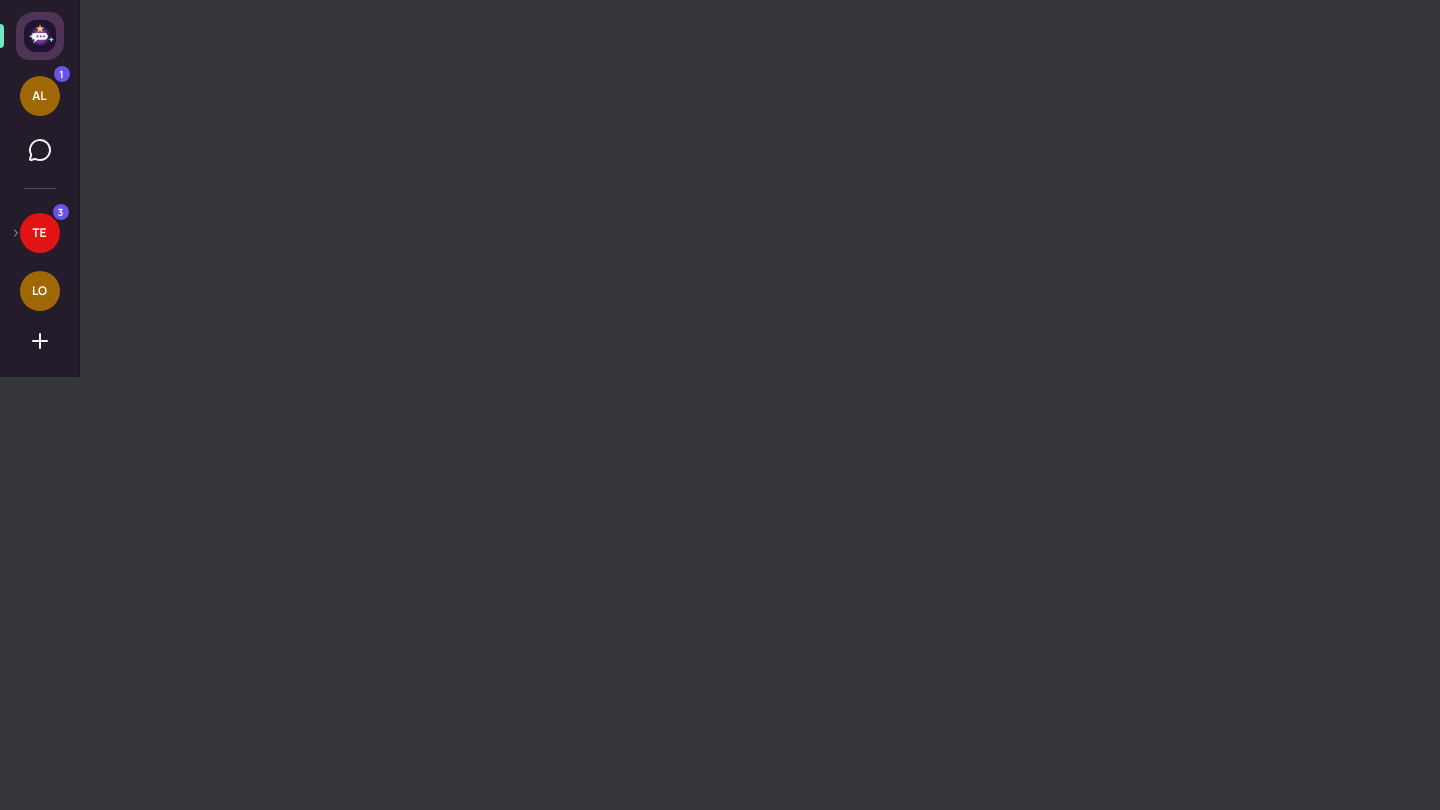
SpaceRail › opens the Invite dialog for a space from its context menu
Right-click the button with aria-label "TE 3, Team, 1 unread, 3 mentions".
right_click(40, 233)  # box [14, 207, 66, 259]
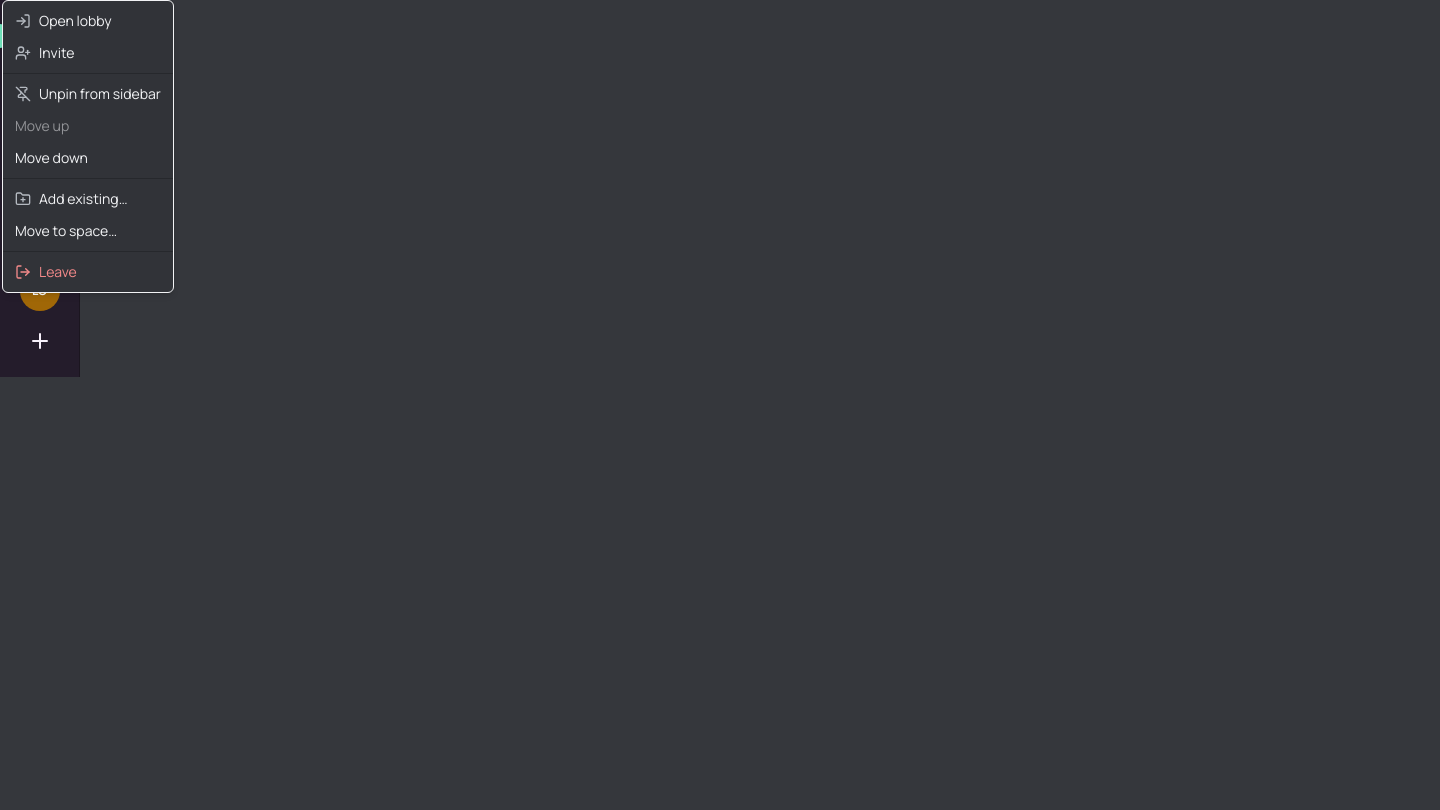
Click the menu item "Invite".
click(45, 52)  # box [15, 43, 74, 62]
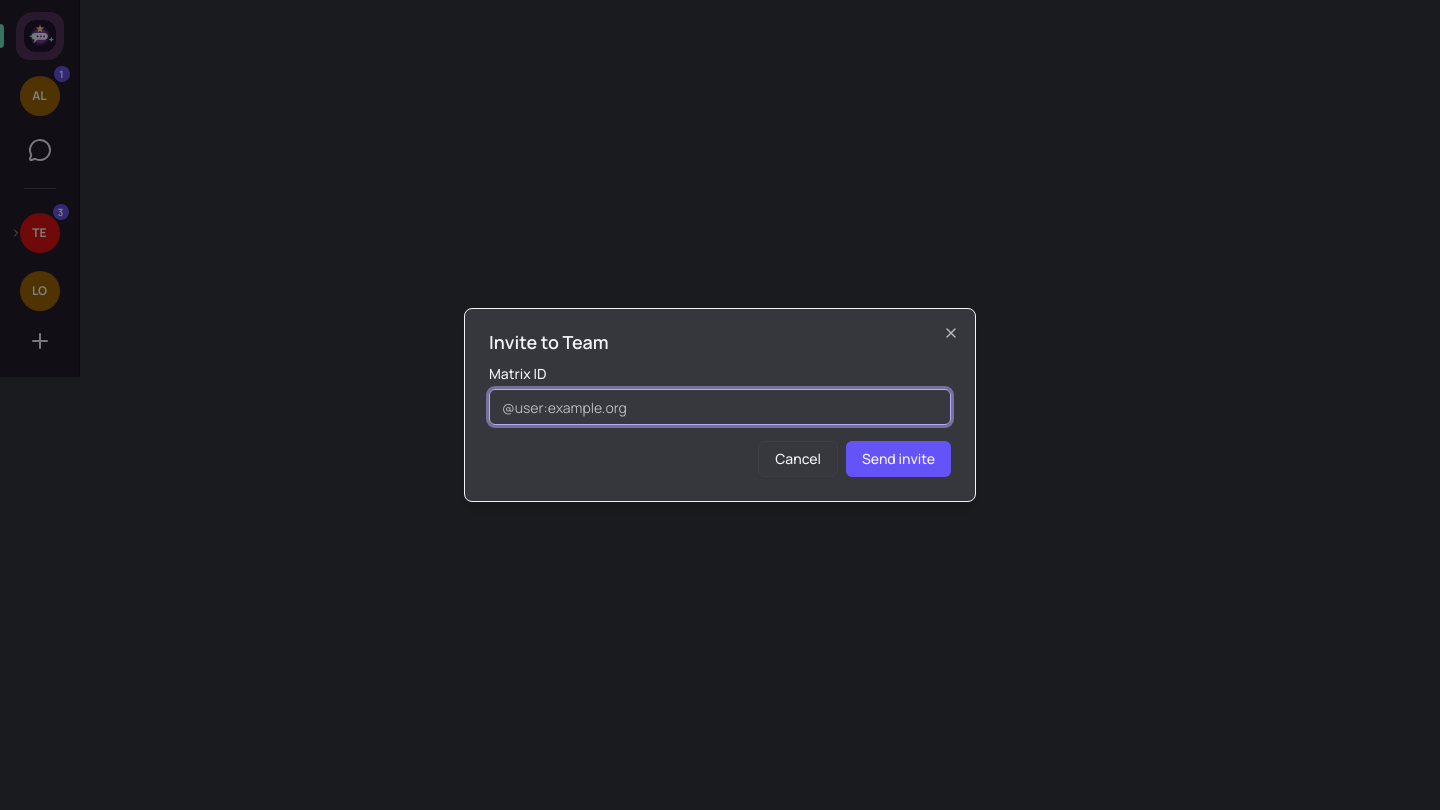
Now the dialog "Invite to Team" is shown, box [464, 308, 976, 502]
